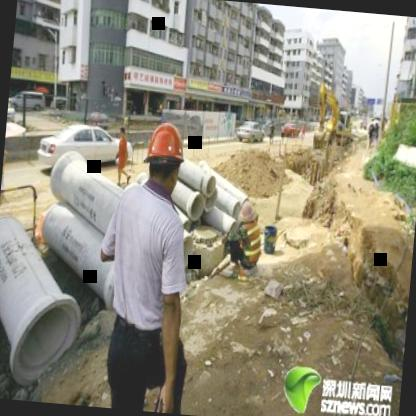helmet: (137, 112, 194, 196)
